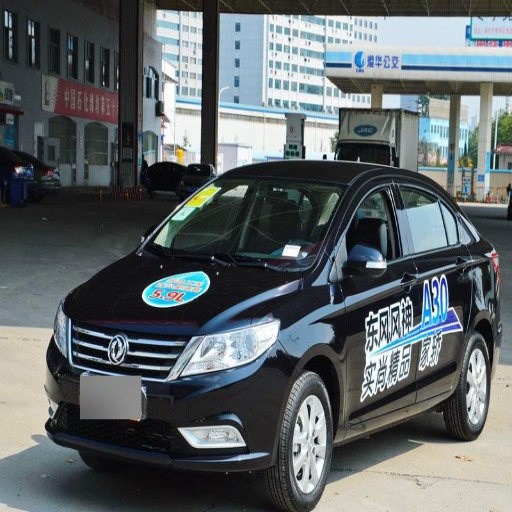back_left_door: (396, 175, 473, 384)
front_bumper: (48, 319, 291, 469)
front_glass: (153, 177, 349, 275)
front_left_door: (336, 176, 420, 414)
